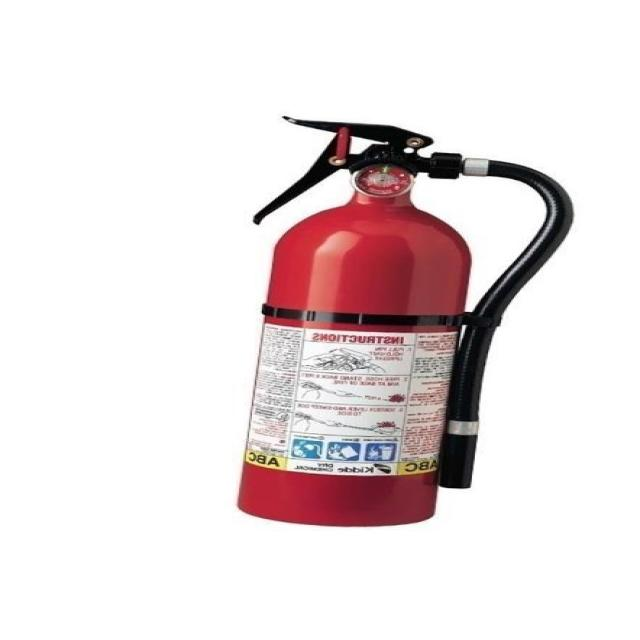fire_extinguisher: (227, 108, 577, 531)
